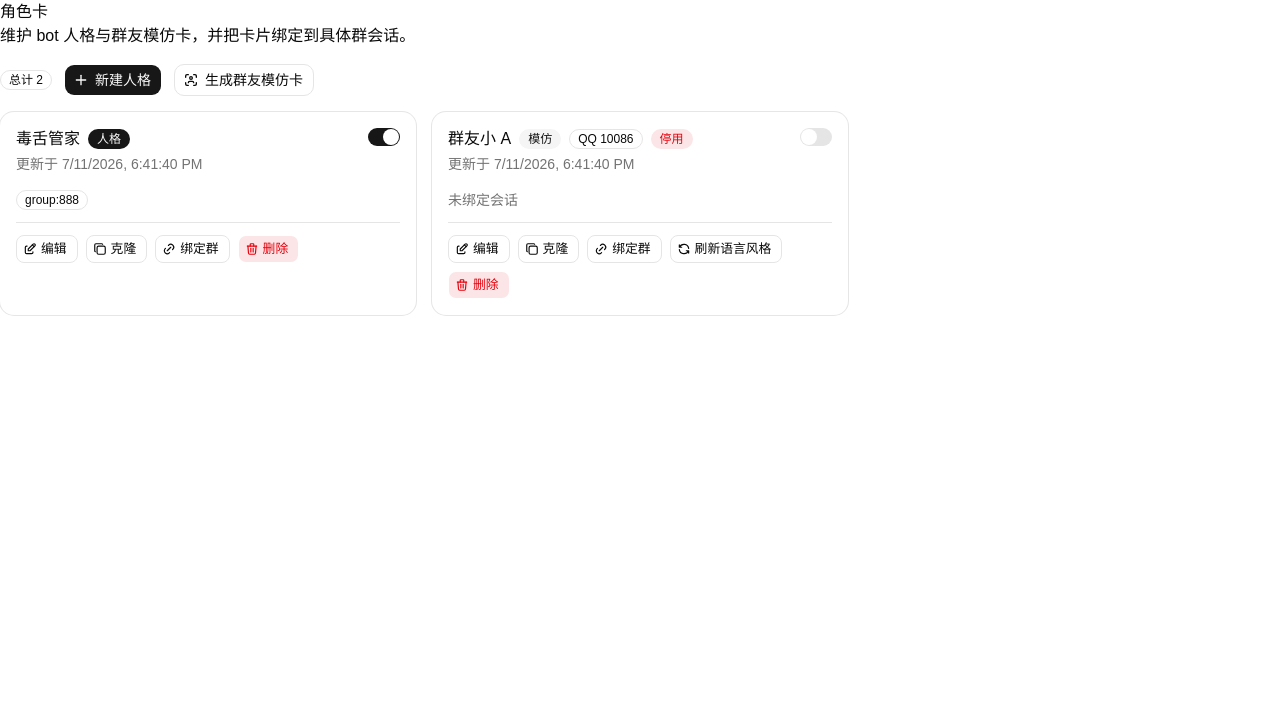
Test: role cards workspace › surfaces member mimic analysis failure inside the generation dialog
Click the button "生成群友模仿卡" at (244, 80), box [174,64,314,96]
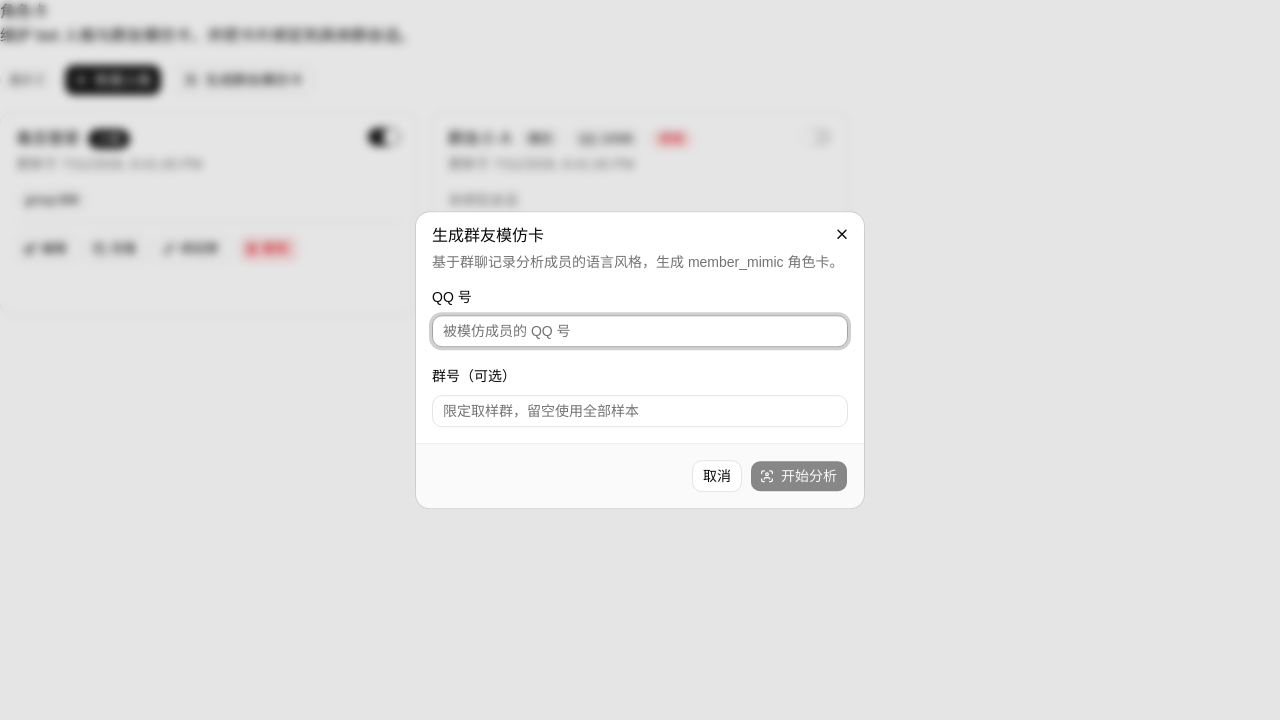
Type "10086" into the field labelled "QQ 号" at (640, 332), box [432,316,848,348]
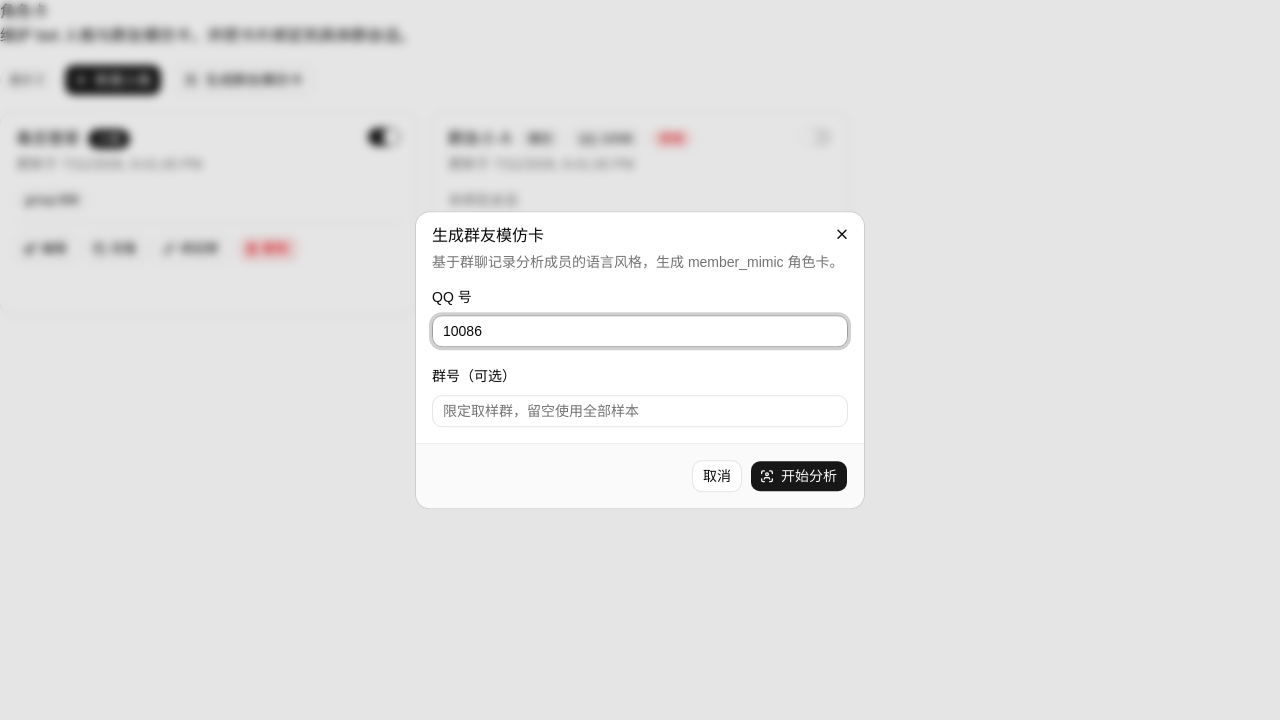
Click the button "开始分析" at (799, 476), box [750,460,848,492]
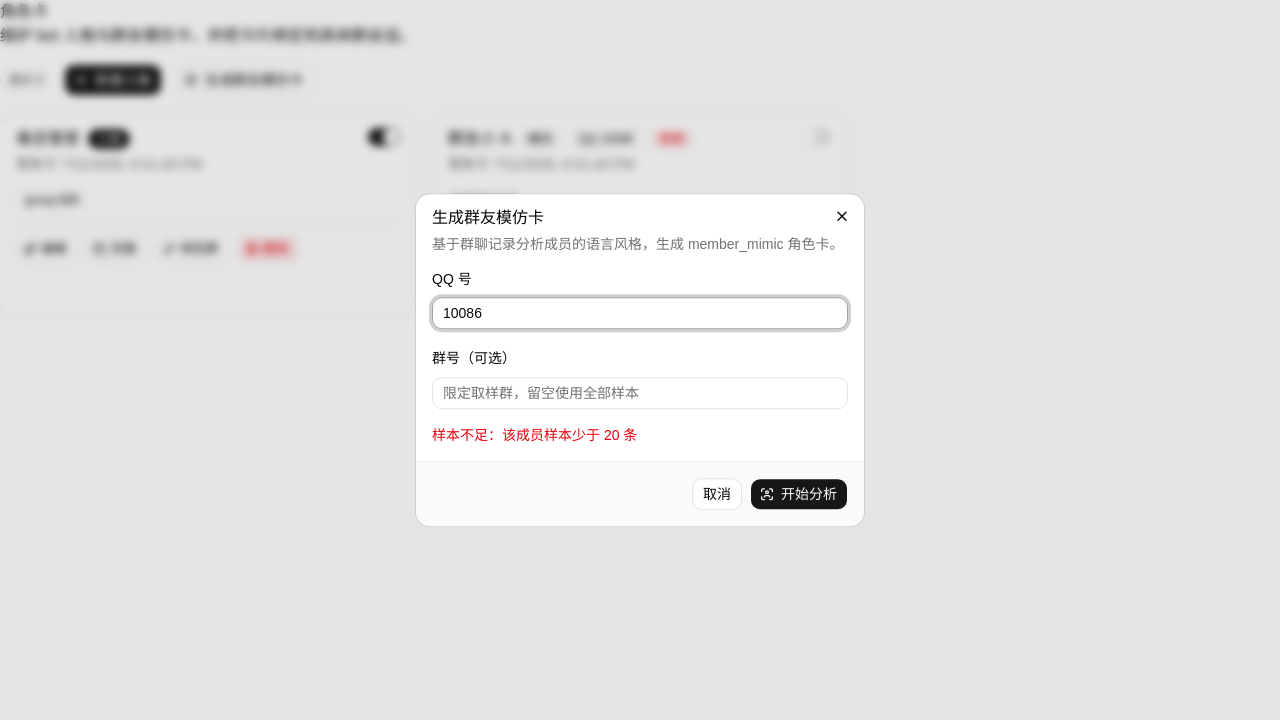
Result: the message reads "样本不足：该成员样本少于 20 条" at [432,427,637,443]
